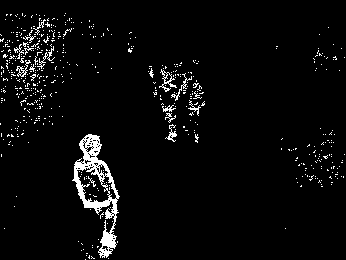person: (70, 132, 123, 255)
